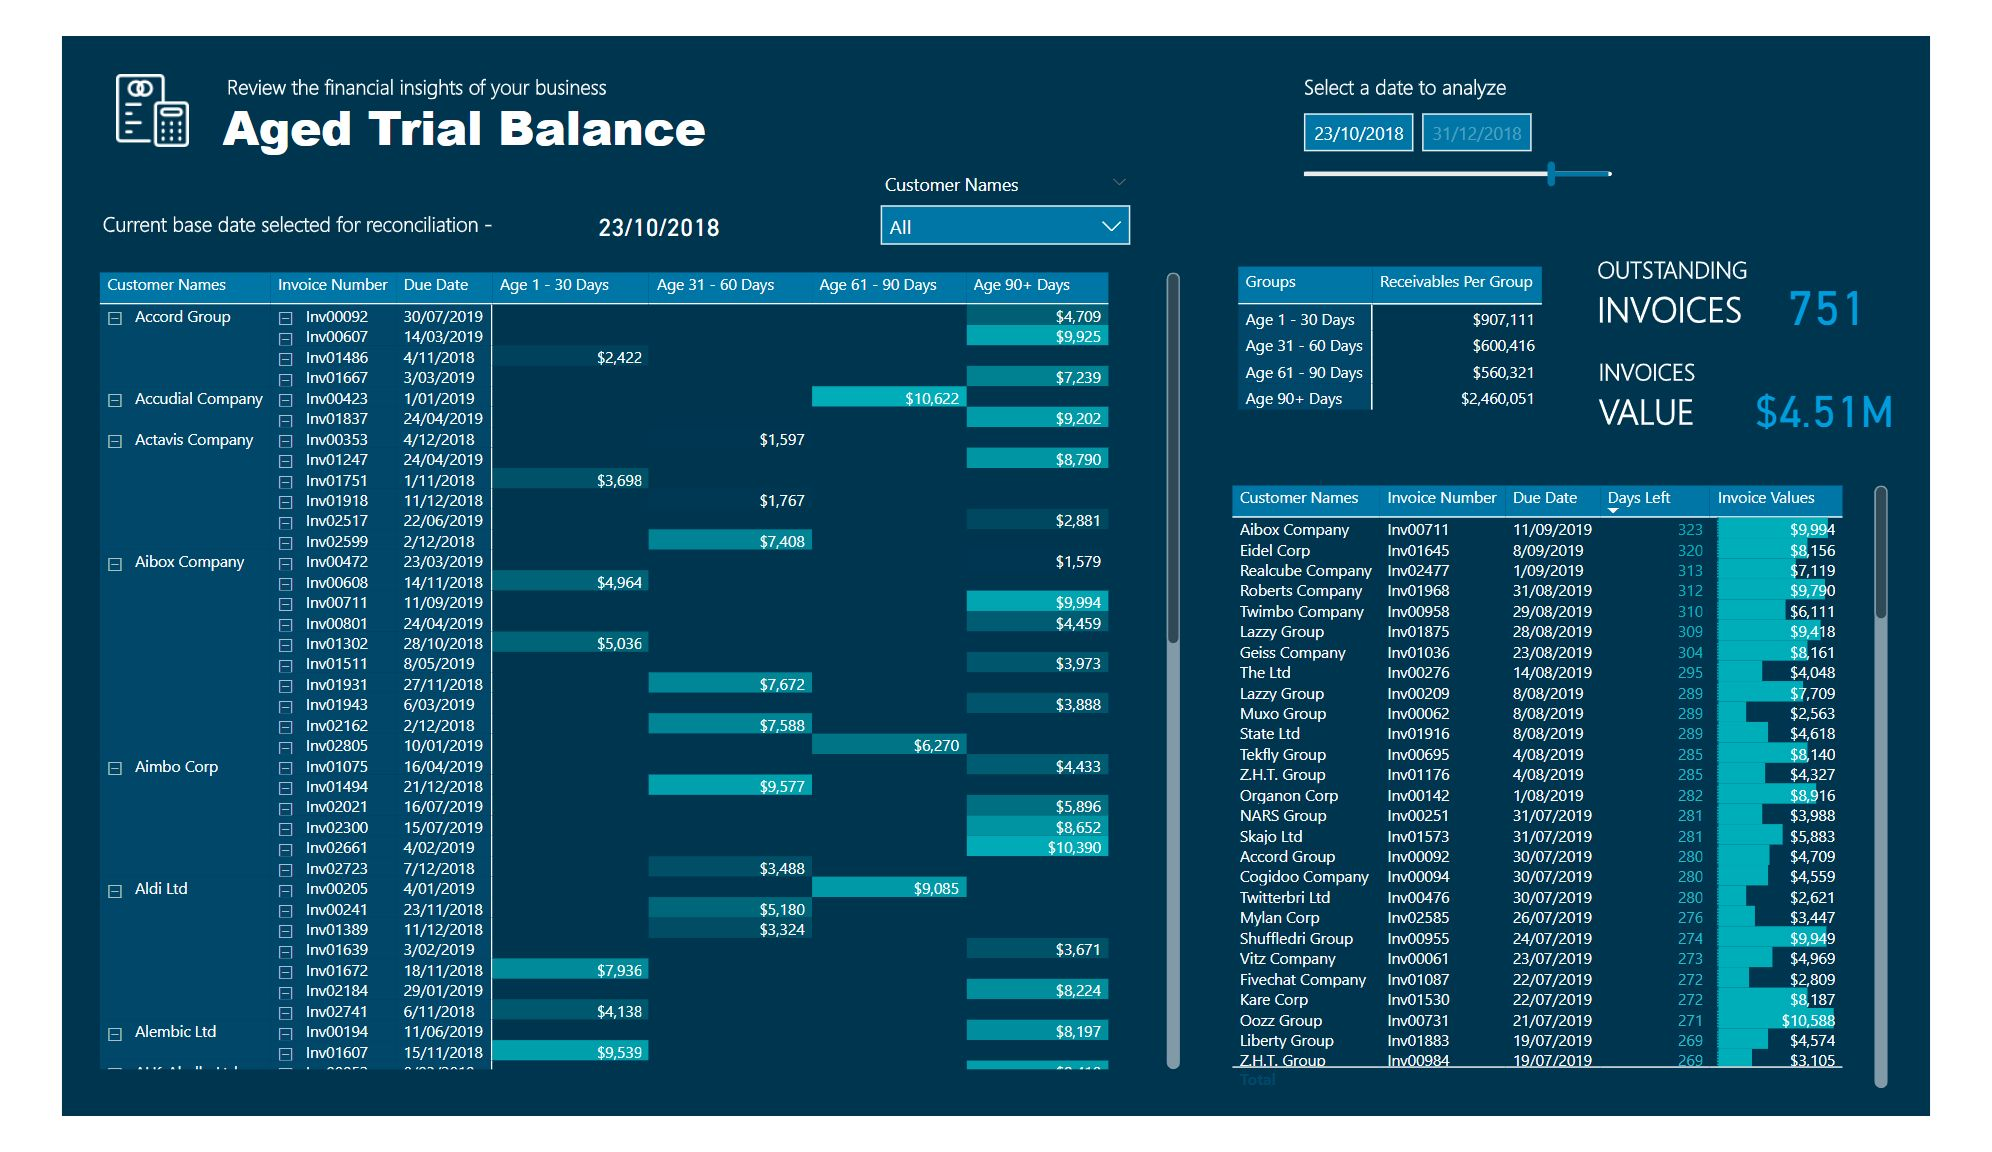

The dashboard page shown, as its layout file describes it:
{"tool":"powerbi","page":{"name":"Aged Trial Balance","canvas":[1280,720],"ordinal":5},"visuals":[{"type":"image","box":[18.3,1.1,88.2,60.2],"z":0},{"type":"textbox","box":[107.6,0,291.5,34.4],"z":1000},{"type":"textbox","box":[105.4,14.7,410.7,60.1],"z":2000},{"type":"pivotTable","fields":{"Rows":["Customers.Customer Names","Invoices.Invoice Number","Invoices.Due Date"],"Values":["Account Receivable.Receivables Per Group"],"Columns":["Aged Debtor Groups.Groups"]},"box":[21.5,136.8,749.7,556.3],"z":5000},{"type":"slicer","fields":{"Values":["Dates.Date.Variation.Date Hierarchy.Year"]},"box":[837.9,22.6,237.5,65.6],"z":6000},{"type":"card","fields":{"Values":["Account Receivable.Selected Date"]},"box":[300.8,97.2,216,29.4],"z":7000},{"type":"textbox","box":[845.8,0,180.9,30.5],"z":8000},{"type":"textbox","box":[22.6,93.9,295.1,30.5],"z":9000},{"type":"slicer","fields":{"Values":["Customers.Customer Names"]},"box":[550.7,67.8,191.1,69],"z":10000},{"type":"card","fields":{"Values":["Account Receivable.Outstanding Invoices"]},"box":[1166.9,128.9,83.7,70.1],"z":11000},{"type":"tableEx","fields":{"Values":["Customers.Customer Names","Invoices.Invoice Number","Invoices.Due Date","Account Receivable.Days Left As Receivable","Account Receivable.Invoice Values"]},"box":[796,282.7,460.2,422.9],"z":12000},{"type":"pivotTable","fields":{"Values":["Account Receivable.Receivables Per Group"],"Rows":["Aged Debtor Groups.Groups"]},"box":[800.6,133.4,237.5,118.7],"z":13000},{"type":"card","fields":{"Values":["Account Receivable.Receivables Per Group"]},"box":[1150,200.1,115.3,70.1],"z":14000},{"type":"textbox","box":[1048.2,194.5,100.6,70.1],"z":15000},{"type":"textbox","box":[1047.1,124.4,121,70.1],"z":16000}]}

Visuals, with their boxes in screenshot pixels (x1, y1, x2, y2), scaled from the page's 1280x720 canvas onto the 1992x1152 screenshot:
image: (28, 2, 166, 98)
textbox: (167, 0, 621, 55)
textbox: (164, 24, 803, 120)
pivotTable - Customers.Customer Names x Invoices.Invoice Number: (33, 219, 1200, 1109)
slicer - Dates.Date.Variation.Date Hierarchy.Year: (1304, 36, 1674, 141)
card - Account Receivable.Selected Date: (468, 156, 804, 203)
textbox: (1316, 0, 1598, 49)
textbox: (35, 150, 494, 199)
slicer - Customers.Customer Names: (857, 108, 1154, 219)
card - Account Receivable.Outstanding Invoices: (1816, 206, 1946, 318)
tableEx - Customers.Customer Names x Invoices.Invoice Number: (1239, 452, 1955, 1129)
pivotTable - Account Receivable.Receivables Per Group x Aged Debtor Groups.Groups: (1246, 213, 1616, 403)
card - Account Receivable.Receivables Per Group: (1790, 320, 1969, 432)
textbox: (1631, 311, 1788, 423)
textbox: (1630, 199, 1818, 311)
